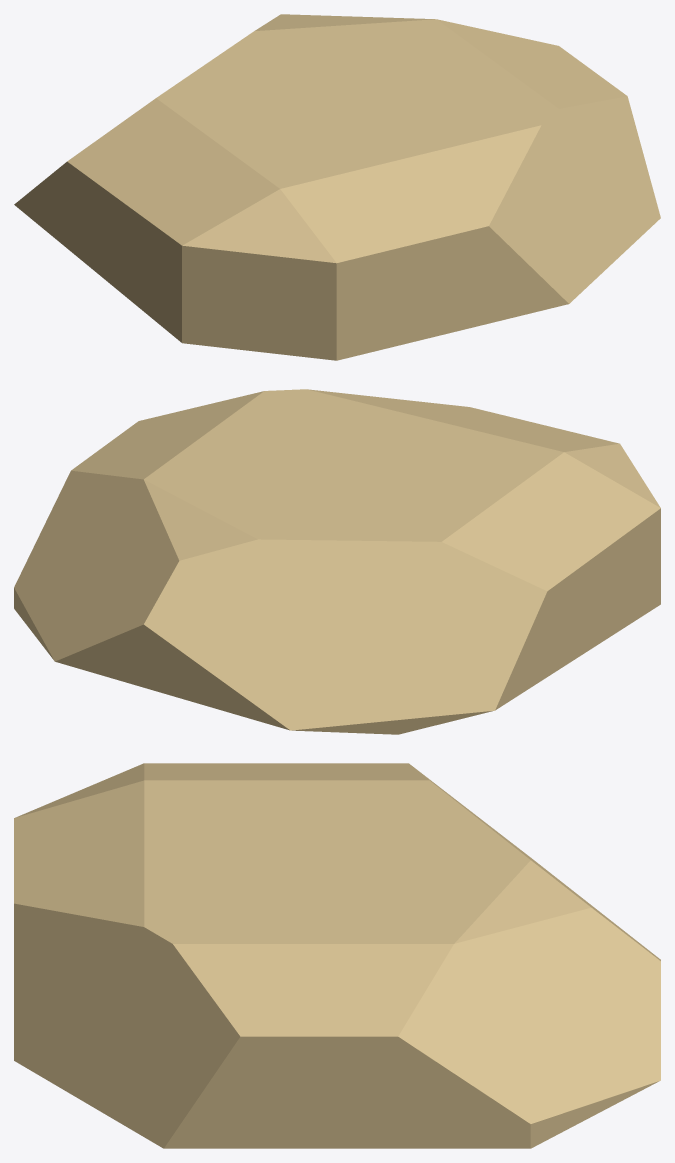
The model's file is Rock_Flat_m_11.fbx.
The picture shows the model from 3 angles, top to bottom: view 1: azimuth 30°, elevation 25°; view 2: azimuth 150°, elevation 25°; view 3: azimuth 270°, elevation 25°; orthographic projection. The views are drawn at different scales.
Parts seen in each view (by area): view 1: Rock_Flat_m_11; view 2: Rock_Flat_m_11; view 3: Rock_Flat_m_11.
Boxes of the visible parts, <box> form: Rock_Flat_m_11: <box>14,14,660,360</box>; Rock_Flat_m_11: <box>14,389,660,734</box>; Rock_Flat_m_11: <box>14,763,660,1148</box>.
Size of the model in its own units: 120 by 38.4 by 120.
